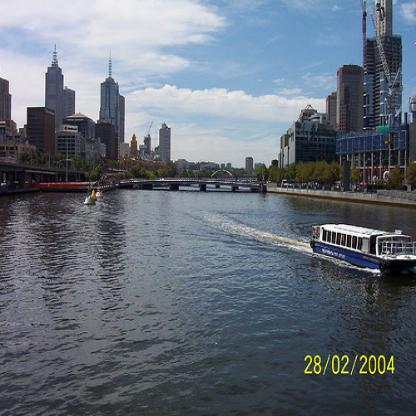boat: (310, 222, 415, 276)
